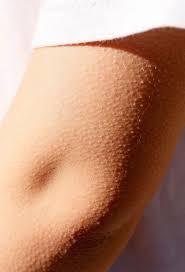Goosebumps: (0, 28, 184, 271)
